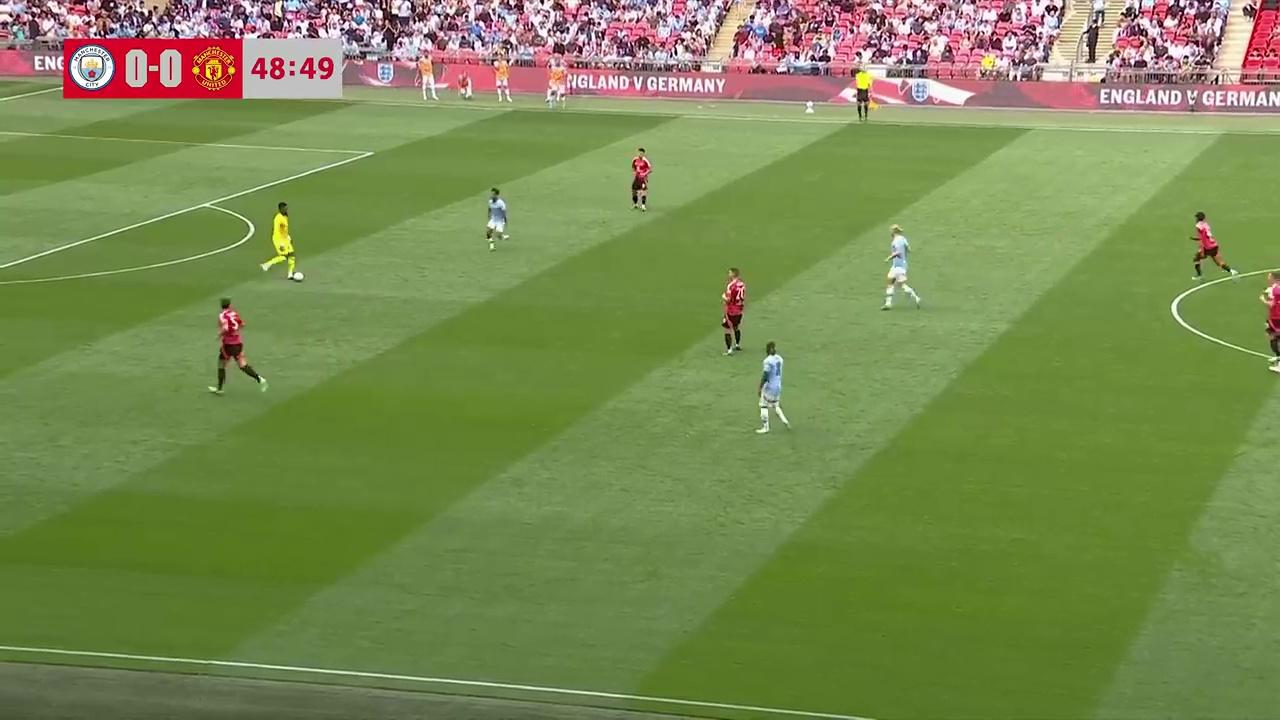ball: (293, 268, 304, 282)
player: (213, 299, 267, 394), (881, 225, 921, 310), (261, 202, 304, 281), (756, 341, 792, 433), (1190, 212, 1234, 278), (1259, 270, 1280, 371), (721, 267, 745, 354), (486, 188, 509, 248), (631, 147, 651, 211)
referee: (854, 68, 873, 120)
